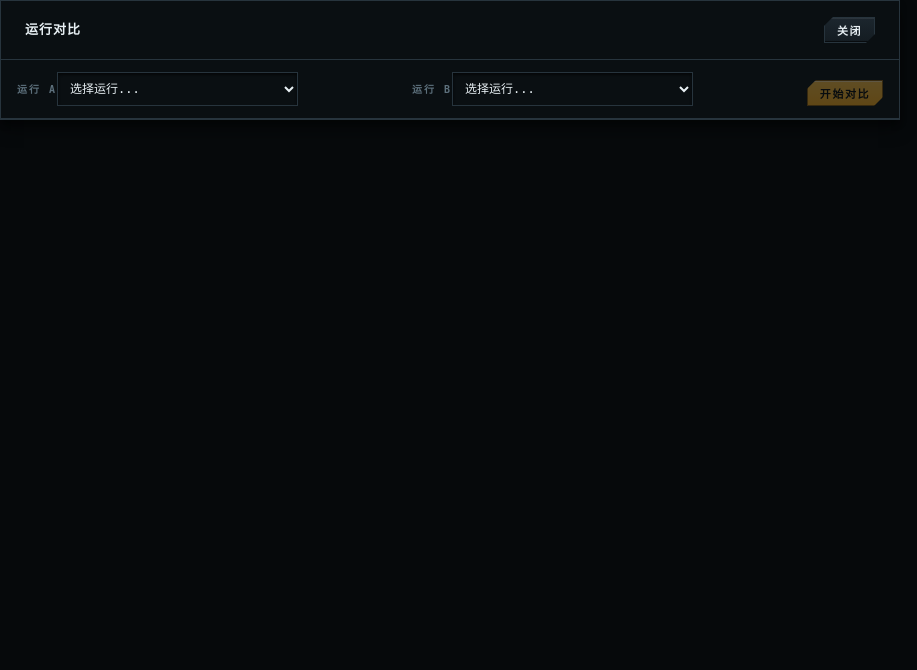
Test: RunCompare › 成本与用量对比 › 显示'成本与用量对比'标题
Select "2024年8月30日 06:40 — success" in the dropdown next to "运行 A" at coordinates (178, 89), box [57, 72, 298, 106]
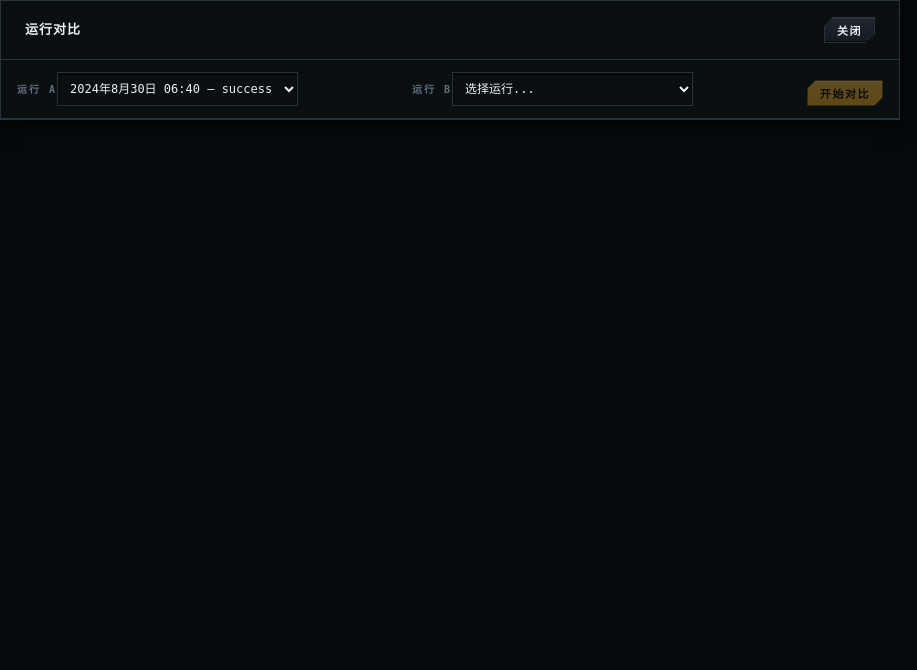
Select "2024年8月30日 06:56 — success" in the dropdown next to "运行 B" at coordinates (572, 89), box [452, 72, 693, 106]
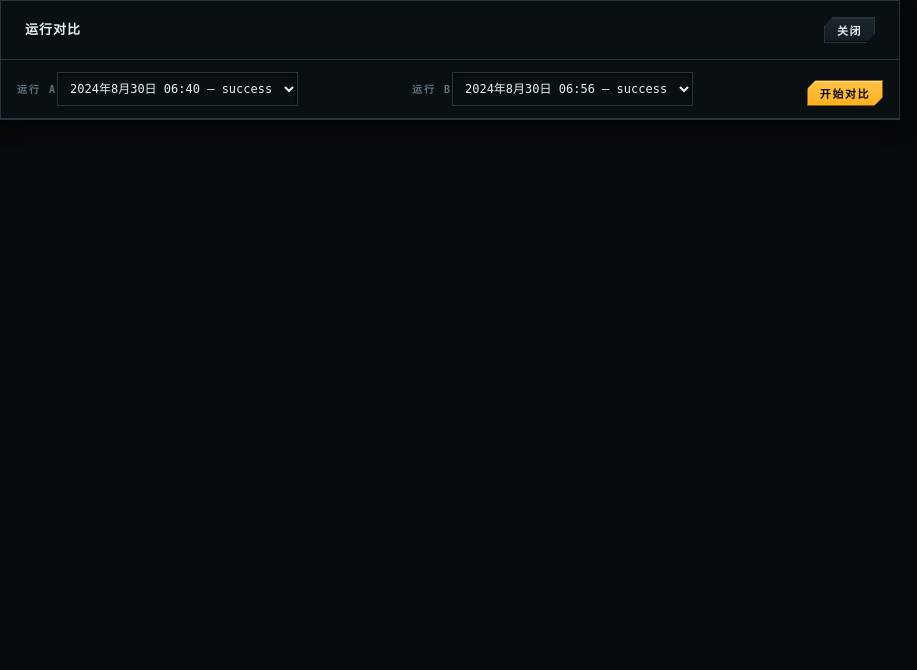
Click the button "开始对比" at coordinates (845, 93), box [807, 80, 883, 106]
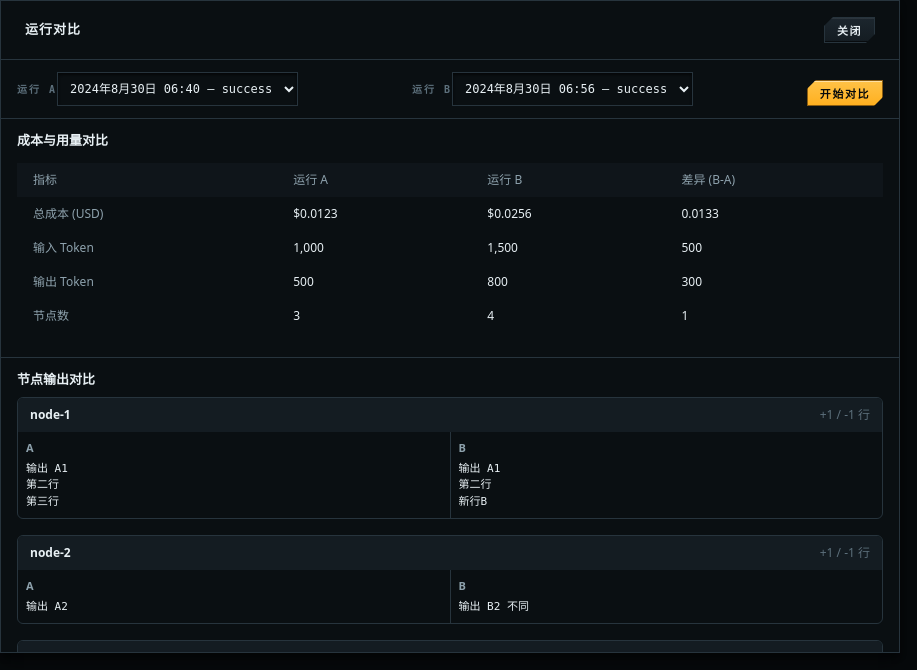
Expected: the heading "成本与用量对比" is shown, [17, 131, 108, 149]
